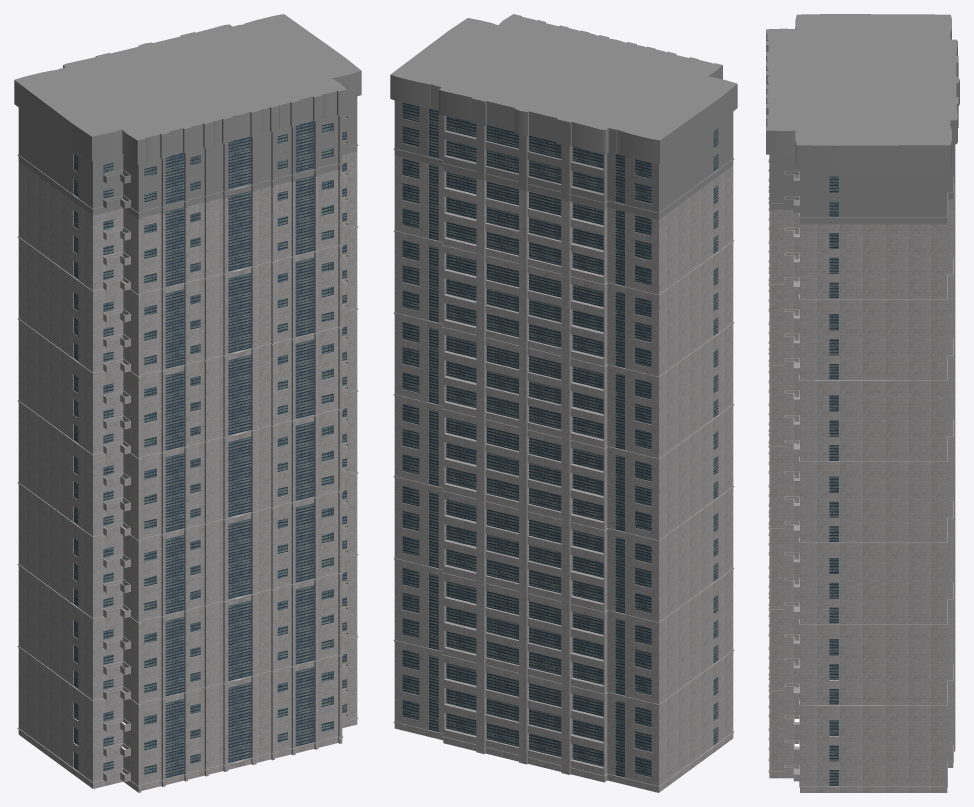
File: Zone-4-Twin.FBX
The picture shows the model from 3 angles, left to right: view 1: azimuth 30°, elevation 25°; view 2: azimuth 150°, elevation 25°; view 3: azimuth 270°, elevation 25°; orthographic projection.
Visible parts, largest first — view 1: Plane569; view 2: Plane569; view 3: Plane569.
Part boxes in pixels (left/top/right/bottom): Plane569: left=14, top=14, right=361, bottom=792; Plane569: left=390, top=14, right=737, bottom=792; Plane569: left=766, top=14, right=959, bottom=792.
Size of the model in its own units: 15.13 by 34.76 by 9.4.
